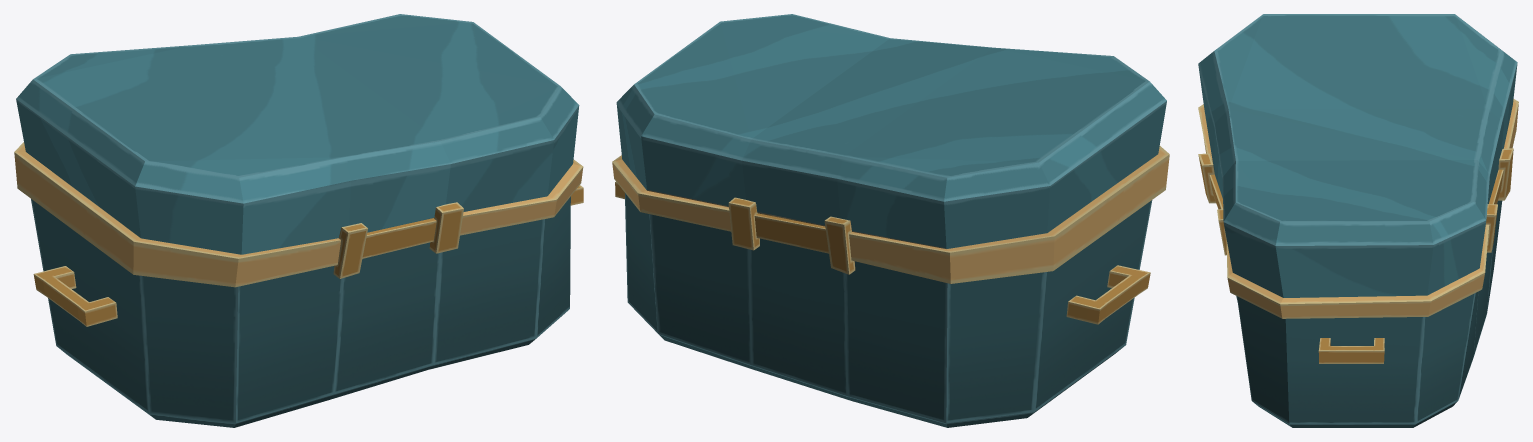
File: Cofre.fbx
The picture shows the model from 3 angles, left to right: view 1: azimuth 30°, elevation 25°; view 2: azimuth 150°, elevation 25°; view 3: azimuth 270°, elevation 25°; orthographic projection. The views are drawn at different scales.
Visible parts, largest first — view 1: cofre_001PTRSZ; view 2: cofre_001PTRSZ; view 3: cofre_001PTRSZ.
Boxes of the visible parts, x1,y1,x2,y2 form: cofre_001PTRSZ: (14,14,583,427); cofre_001PTRSZ: (612,14,1169,427); cofre_001PTRSZ: (1198,14,1518,427).
Size of the model in its own units: 2.36 by 1.24 by 1.53.
